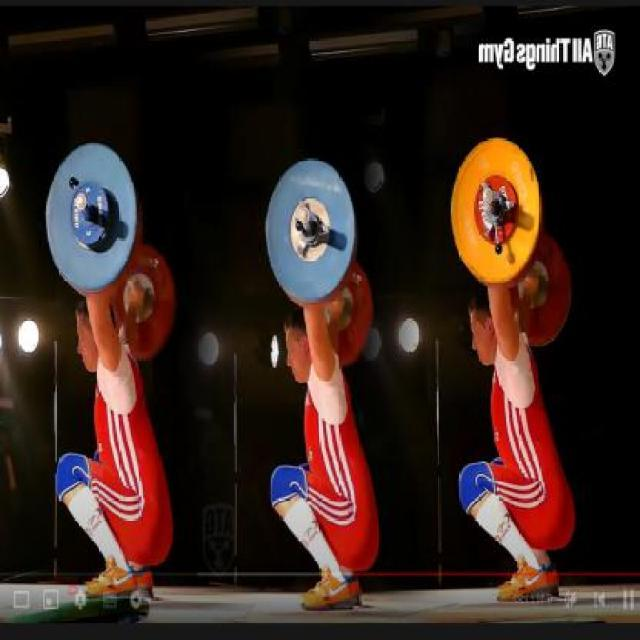Barbell: (74, 189, 88, 217), (479, 185, 496, 208), (298, 203, 312, 224)
